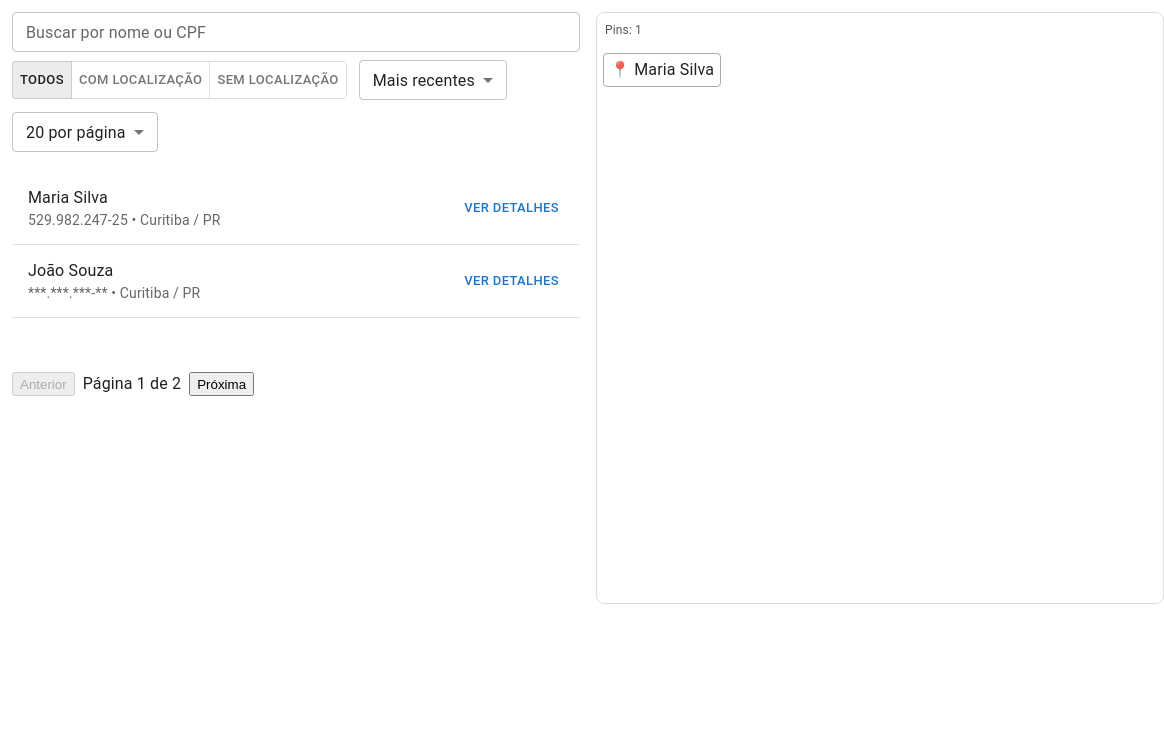
Test: SearchContactsPage › F6: paginação altera a URL e refaz o fetch
This screenshot has width=1164, height=732.
expect the text "Página 1 de 2" is shown: met, box [83,372,181,396]
Click the button "Próxima": (222, 384) [189,372,254,396]
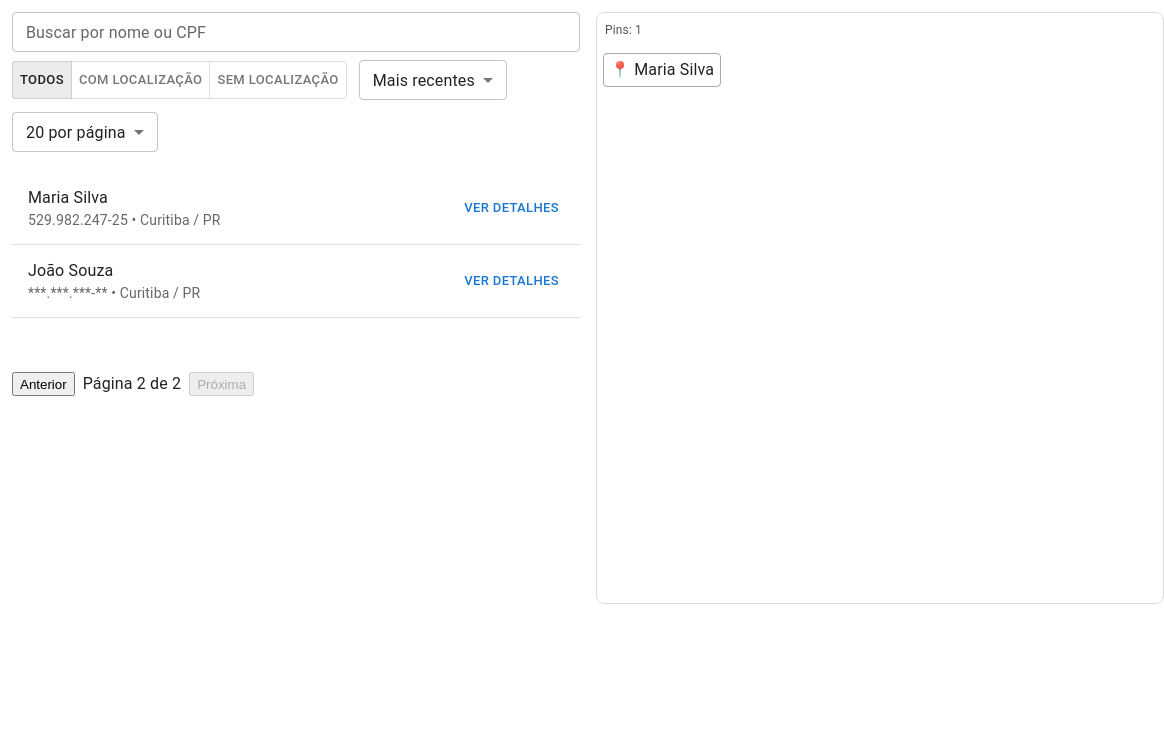
expect the text "Página 2 de 2" is shown: met, box [83,372,181,396]
